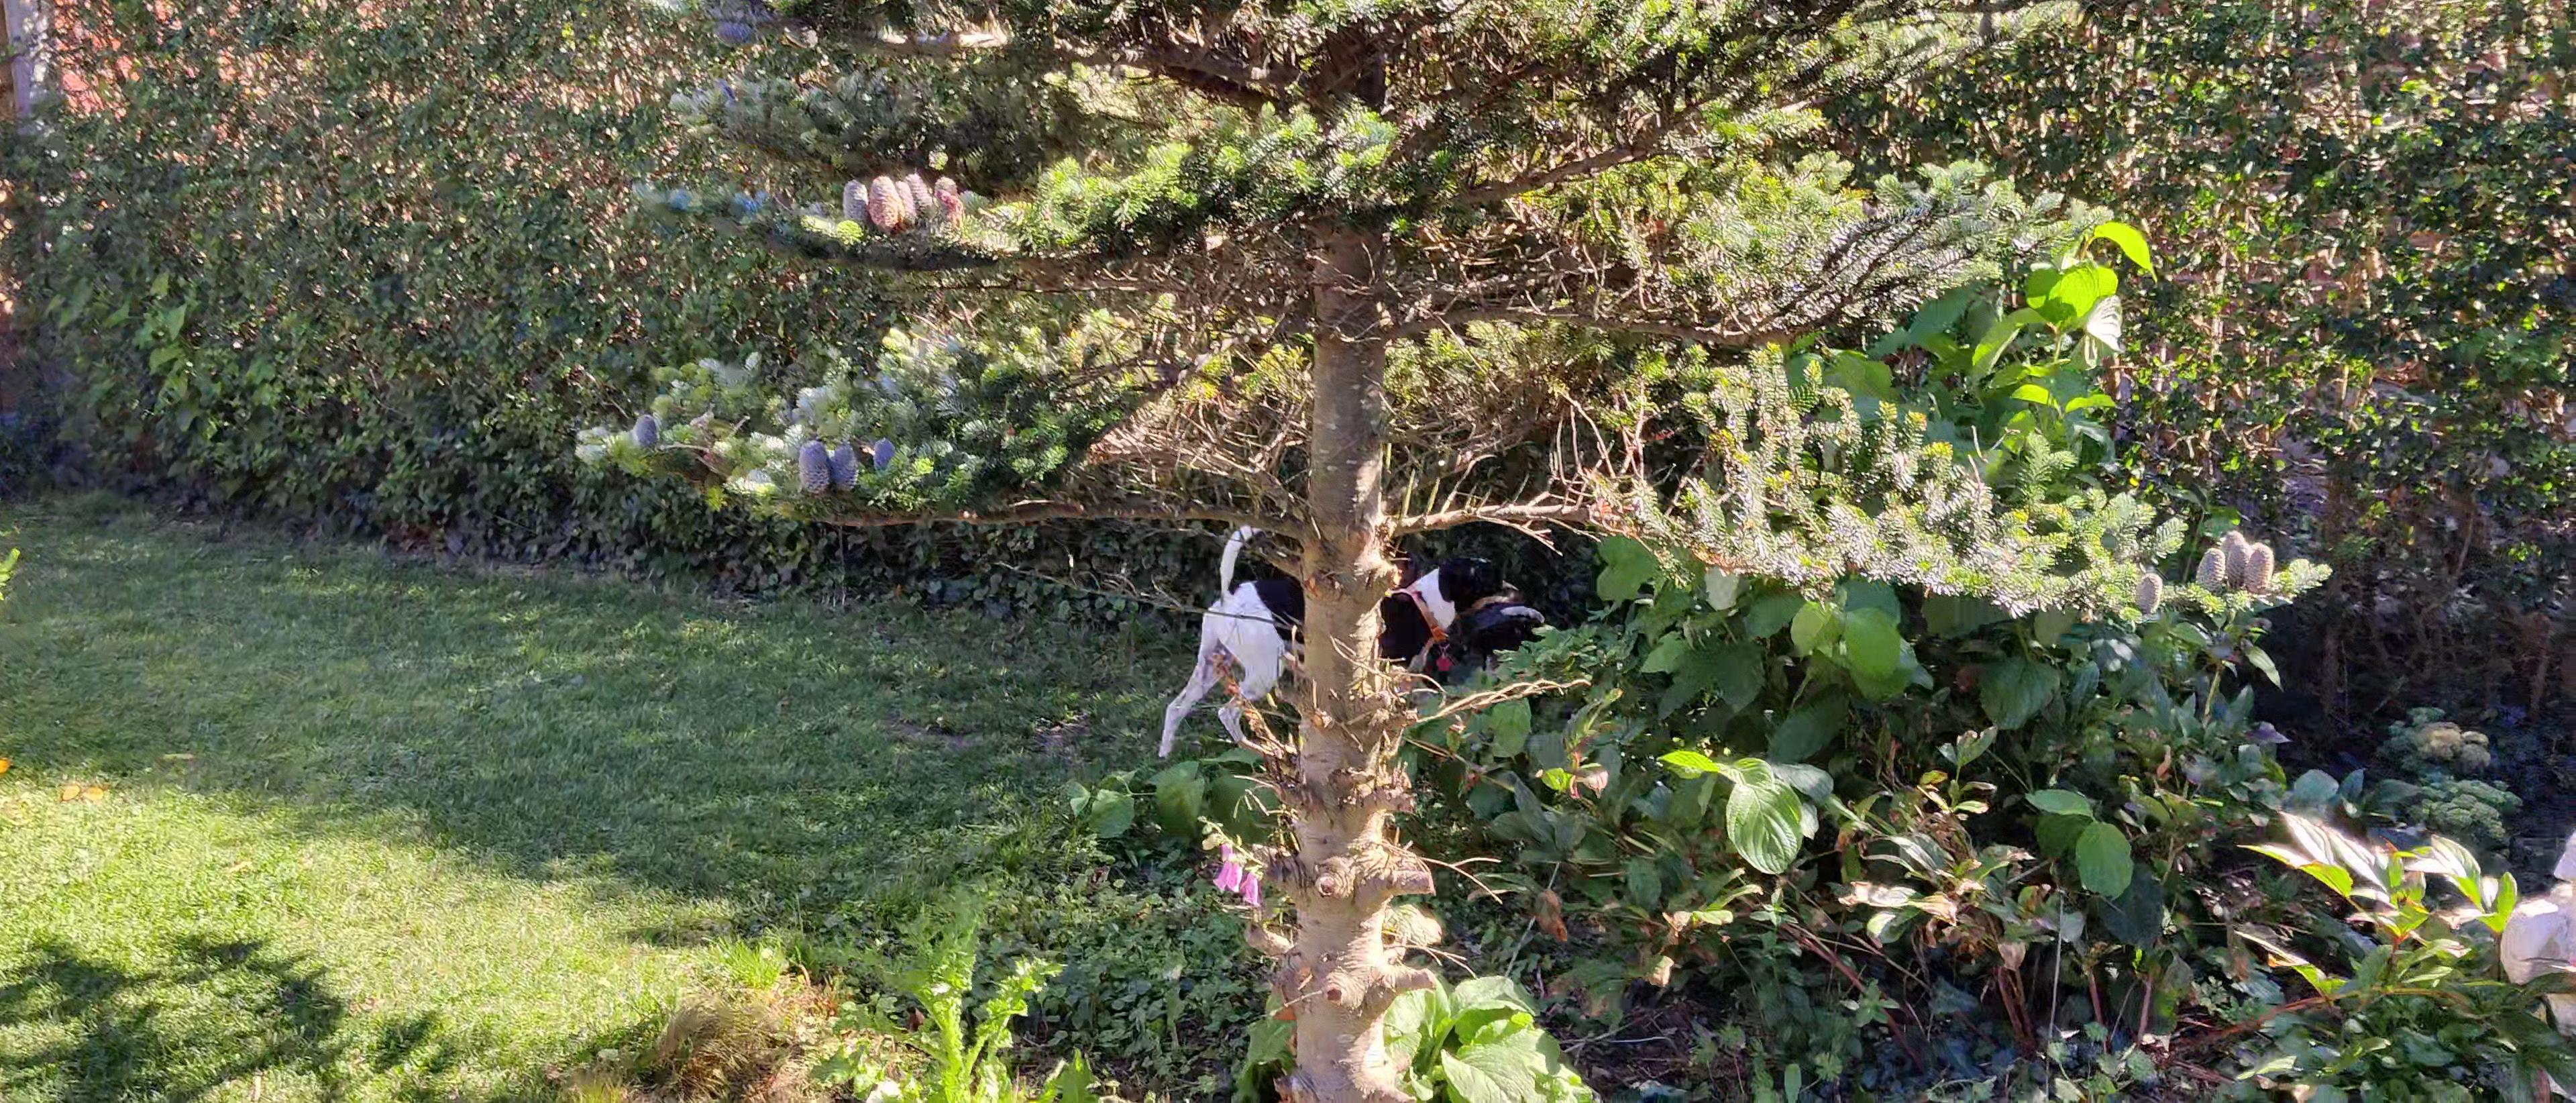Dog: (1157, 526, 1528, 755)
